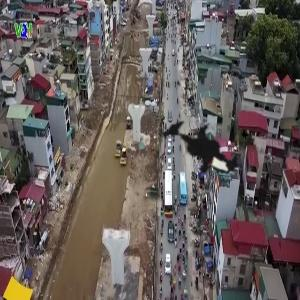drone: (132, 90, 263, 221)
